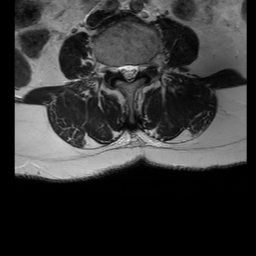CCS_normal: (124, 57, 132, 88)
LFS_stenosis: (139, 56, 147, 79)
LLS_normal: (132, 59, 139, 84)
RFS_stenosis: (109, 57, 117, 79)
RLS_stenosis: (117, 57, 124, 81)
